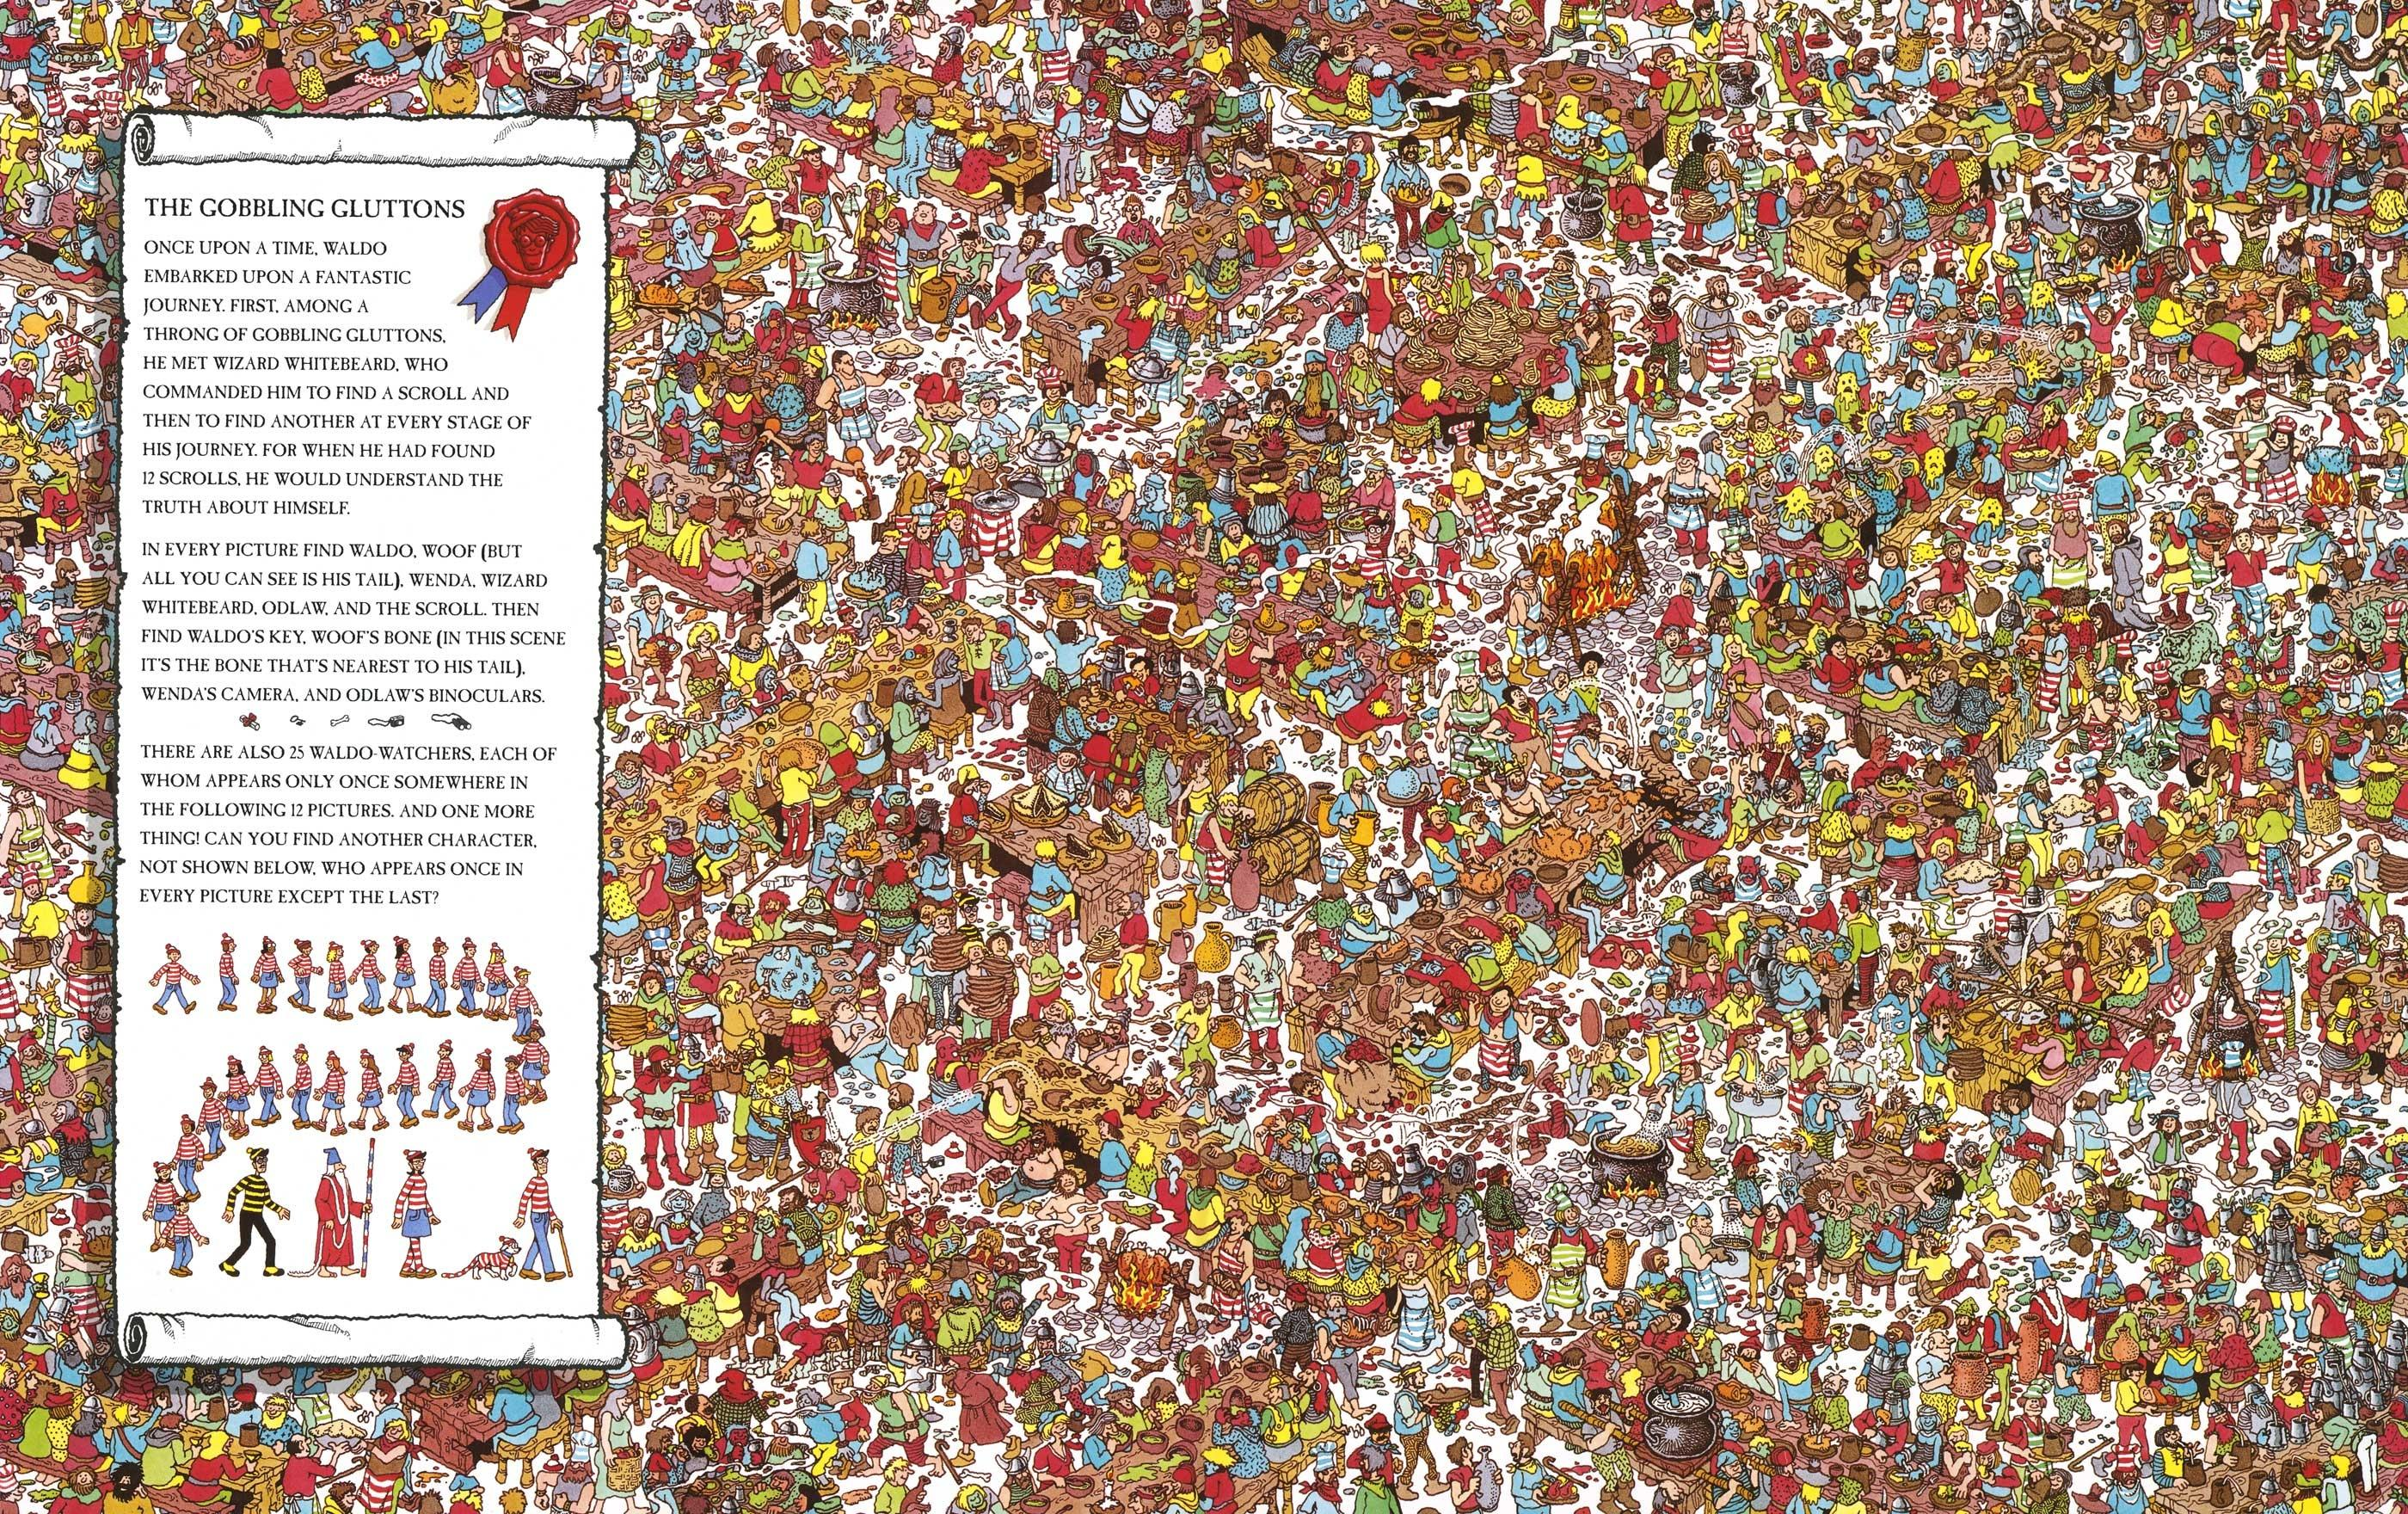waldos: (1353, 508, 1391, 583)
